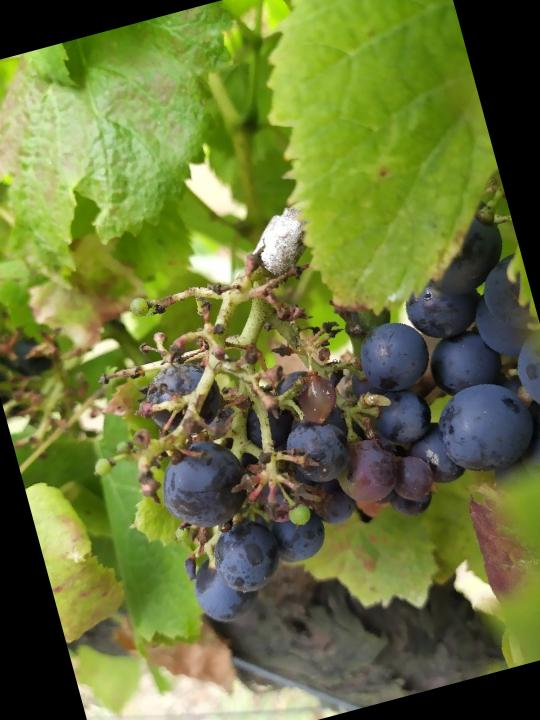grape: (52, 235, 455, 646)
